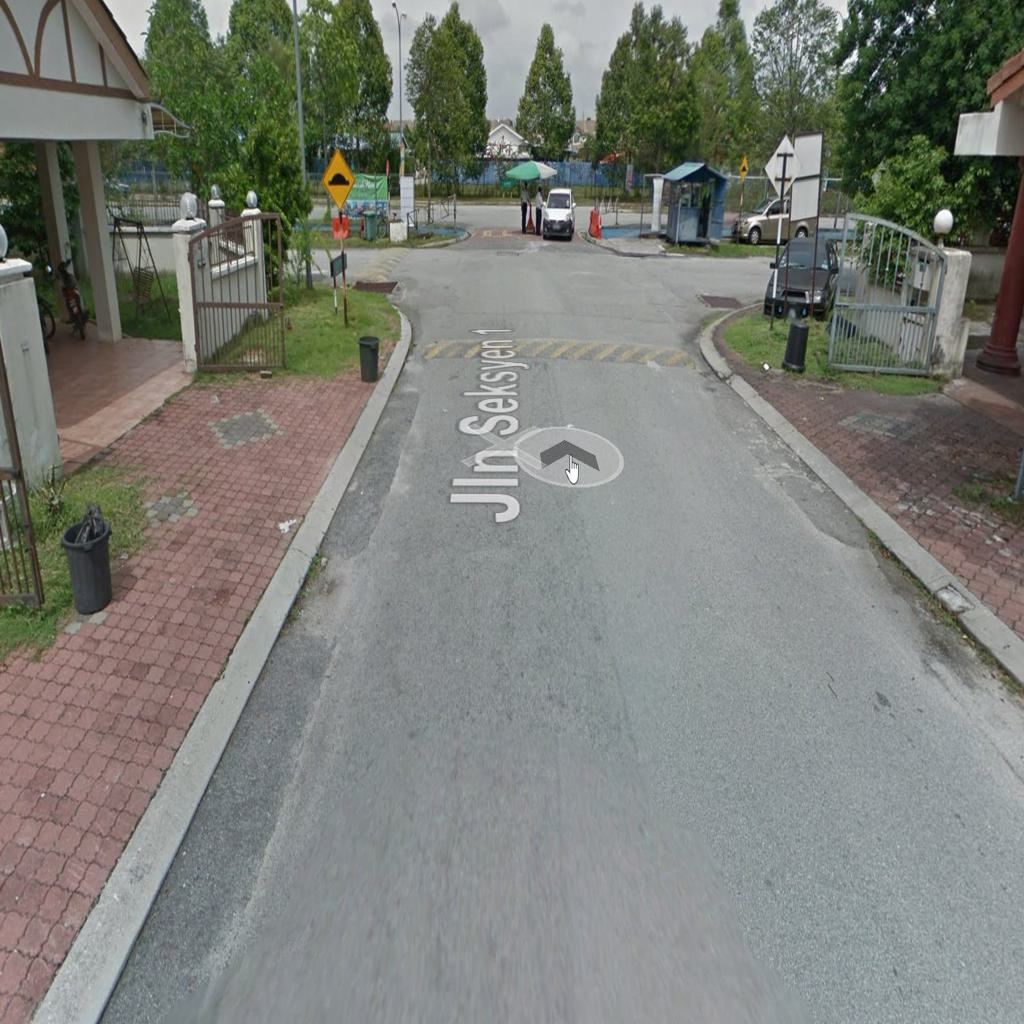Junction: (283, 216, 459, 342), (631, 228, 773, 335)
